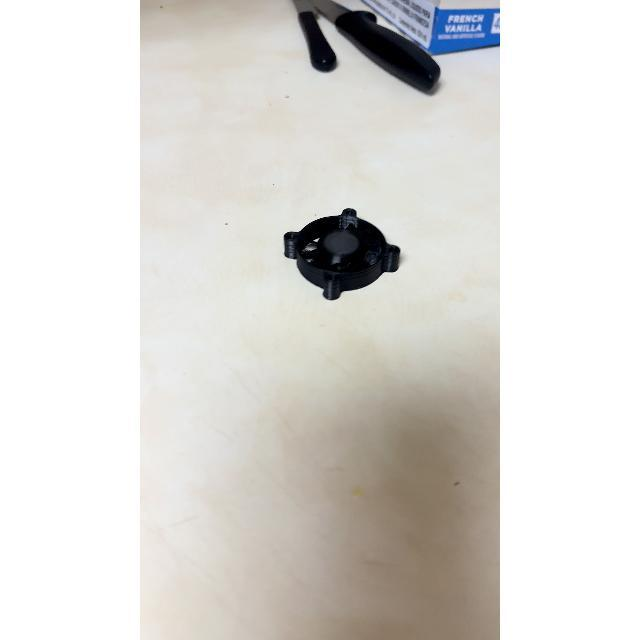Pieza4: (275, 184, 403, 318)
